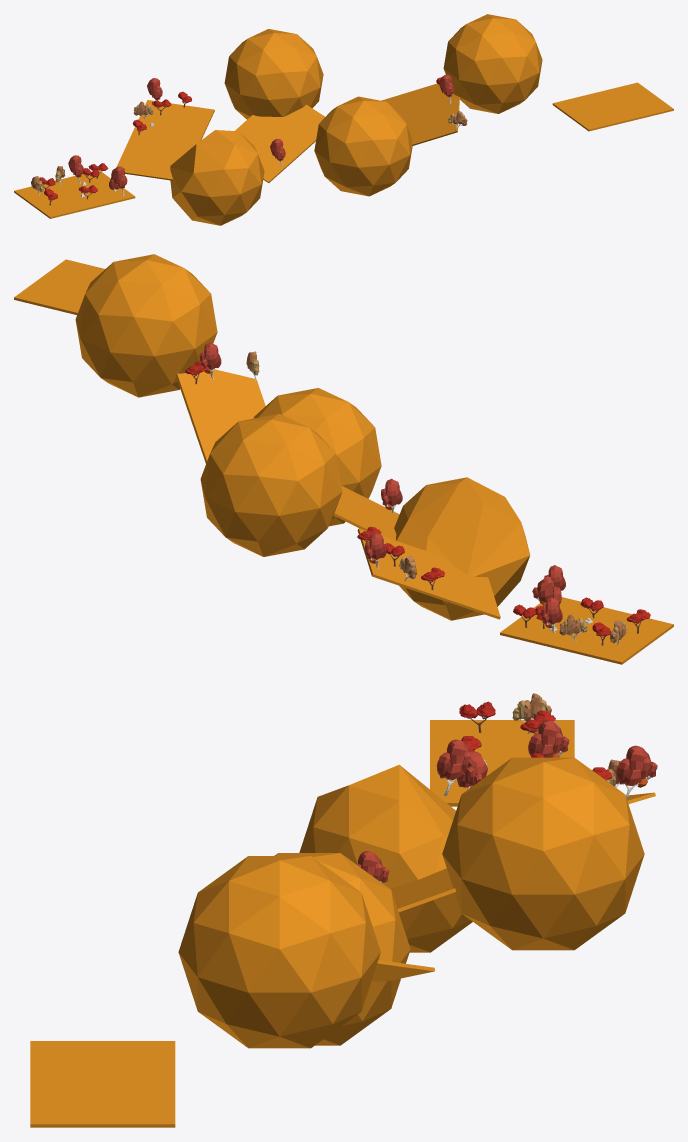
The model's file is autumn.glb.
3 renders of one model, top to bottom at view 1: azimuth 30°, elevation 25°; view 2: azimuth 150°, elevation 25°; view 3: azimuth 270°, elevation 25°, orthographic. The views are drawn at different scales.
Visible parts, largest first — view 1: Icosphere.002, Icosphere, Icosphere.001, Icosphere.003, Cube.001, Cube.002, Cube.004, Cube, Cube.003; view 2: Icosphere.001, Icosphere, Icosphere.003, Icosphere.002, Cube, Cube.003, Cube.001, Cube.004, Cube.002; view 3: Icosphere.001, Icosphere, Icosphere.003, Cube.004, Icosphere.002, Cube, Cube.002, BirchTree_Autumn_1.005, BirchTree_Autumn_1.003, BirchTree_Autumn_1.001, Cube.003, BirchTree_Autumn_1.002 (+1 smaller).
Part boxes in pixels (x1=…): Icosphere.002: x1=314, y1=96, x2=412, y2=196; Icosphere: x1=443, y1=14, x2=542, y2=113; Icosphere.001: x1=224, y1=29, x2=323, y2=119; Icosphere.003: x1=170, y1=130, x2=264, y2=225; Cube.001: x1=116, y1=100, x2=214, y2=180; Cube.002: x1=235, y1=104, x2=324, y2=182; Cube.004: x1=552, y1=82, x2=673, y2=131; Cube: x1=14, y1=170, x2=135, y2=218; Cube.003: x1=381, y1=83, x2=459, y2=145; Icosphere.001: x1=200, y1=413, x2=342, y2=556; Icosphere: x1=75, y1=254, x2=217, y2=397; Icosphere.003: x1=394, y1=477, x2=530, y2=620; Icosphere.002: x1=253, y1=388, x2=381, y2=526; Cube: x1=500, y1=597, x2=673, y2=664; Cube.003: x1=176, y1=369, x2=265, y2=463; Cube.001: x1=357, y1=528, x2=500, y2=619; Cube.004: x1=14, y1=259, x2=104, y2=314; Cube.002: x1=333, y1=486, x2=399, y2=540; Icosphere.001: x1=442, y1=757, x2=644, y2=950; Icosphere: x1=178, y1=856, x2=380, y2=1048; Icosphere.003: x1=299, y1=764, x2=472, y2=952; Cube.004: x1=30, y1=1041, x2=175, y2=1127; Icosphere.002: x1=274, y1=853, x2=410, y2=1045; Cube: x1=430, y1=720, x2=574, y2=806; Cube.002: x1=390, y1=868, x2=456, y2=912; BirchTree_Autumn_1.005: x1=616, y1=745, x2=657, y2=799; BirchTree_Autumn_1.003: x1=528, y1=720, x2=569, y2=757; BirchTree_Autumn_1.001: x1=436, y1=739, x2=470, y2=795; Cube.003: x1=372, y1=960, x2=434, y2=981; BirchTree_Autumn_1.002: x1=457, y1=751, x2=487, y2=789.
Bounding box in the file's own units: 610 × 183 × 316.
